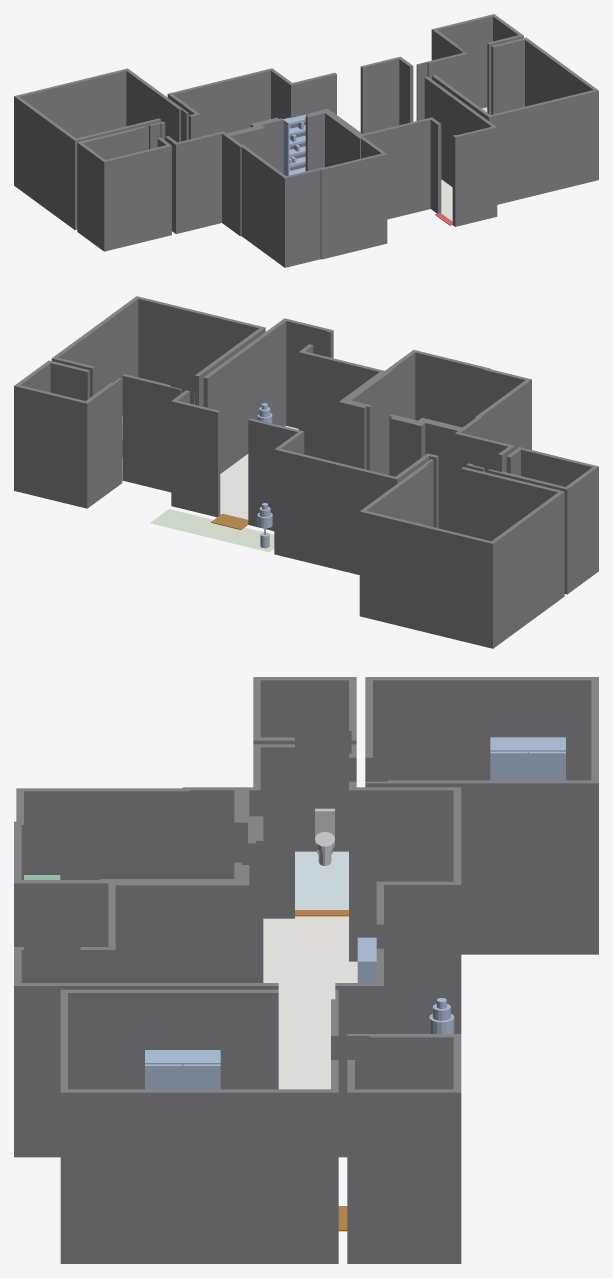
The picture shows the model from 3 angles, top to bottom: view 1: azimuth 30°, elevation 25°; view 2: azimuth 150°, elevation 25°; view 3: azimuth 270°, elevation 25°; orthographic projection. The views are drawn at different scales.
Parts seen in each view (by area): view 1: walls:verify-plan-upload-F0-S001, walls:verify-plan-upload-F0-S006, walls:verify-plan-upload-F0-S002, walls:verify-plan-upload-F0-S003, walls:verify-plan-upload-F0-S004, walls:verify-plan-upload-F0-S005, resplan-102-A00004, verify-plan-upload-F0-S001; view 2: walls:verify-plan-upload-F0-S001, walls:verify-plan-upload-F0-S003, walls:verify-plan-upload-F0-S002, walls:verify-plan-upload-F0-S005, walls:verify-plan-upload-F0-S006, walls:verify-plan-upload-F0-S004, verify-plan-upload-F0-S007, verify-plan-upload-F0-S001, resplan-102-A00019; view 3: walls:verify-plan-upload-F0-S002, walls:verify-plan-upload-F0-S001, walls:verify-plan-upload-F0-S003, walls:verify-plan-upload-F0-S006, walls:verify-plan-upload-F0-S005, walls:verify-plan-upload-F0-S004, verify-plan-upload-F0-S001, resplan-102-A00009, resplan-102-A00007, verify-plan-upload-F0-S004, resplan-102-A00011, resplan-102-A00004 (+1 smaller).
Part boxes in pixels (x1,y1,x2,y2): walls:verify-plan-upload-F0-S001: [149, 56, 497, 233]; walls:verify-plan-upload-F0-S006: [225, 111, 387, 267]; walls:verify-plan-upload-F0-S002: [416, 37, 598, 204]; walls:verify-plan-upload-F0-S003: [14, 68, 188, 229]; walls:verify-plan-upload-F0-S004: [77, 126, 171, 251]; walls:verify-plan-upload-F0-S005: [431, 14, 523, 114]; resplan-102-A00004: [283, 114, 306, 175]; verify-plan-upload-F0-S001: [441, 179, 452, 221]; walls:verify-plan-upload-F0-S001: [171, 318, 514, 574]; walls:verify-plan-upload-F0-S003: [359, 459, 564, 648]; walls:verify-plan-upload-F0-S002: [51, 296, 265, 492]; walls:verify-plan-upload-F0-S005: [14, 360, 122, 508]; walls:verify-plan-upload-F0-S006: [345, 350, 531, 475]; walls:verify-plan-upload-F0-S004: [487, 447, 598, 594]; verify-plan-upload-F0-S007: [150, 509, 274, 552]; verify-plan-upload-F0-S001: [220, 426, 298, 519]; resplan-102-A00019: [257, 503, 272, 548]; walls:verify-plan-upload-F0-S002: [60, 989, 338, 1263]; walls:verify-plan-upload-F0-S001: [14, 744, 461, 1157]; walls:verify-plan-upload-F0-S003: [365, 677, 598, 954]; walls:verify-plan-upload-F0-S006: [14, 787, 255, 982]; walls:verify-plan-upload-F0-S005: [347, 1034, 461, 1263]; walls:verify-plan-upload-F0-S004: [253, 677, 356, 851]; verify-plan-upload-F0-S001: [263, 916, 357, 1089]; resplan-102-A00009: [490, 737, 565, 780]; resplan-102-A00007: [145, 1050, 220, 1089]; verify-plan-upload-F0-S004: [295, 851, 348, 909]; resplan-102-A00011: [315, 808, 334, 865]; resplan-102-A00004: [357, 937, 376, 982].
Size of the model in its own units: 15.6 by 3 by 9.28.
